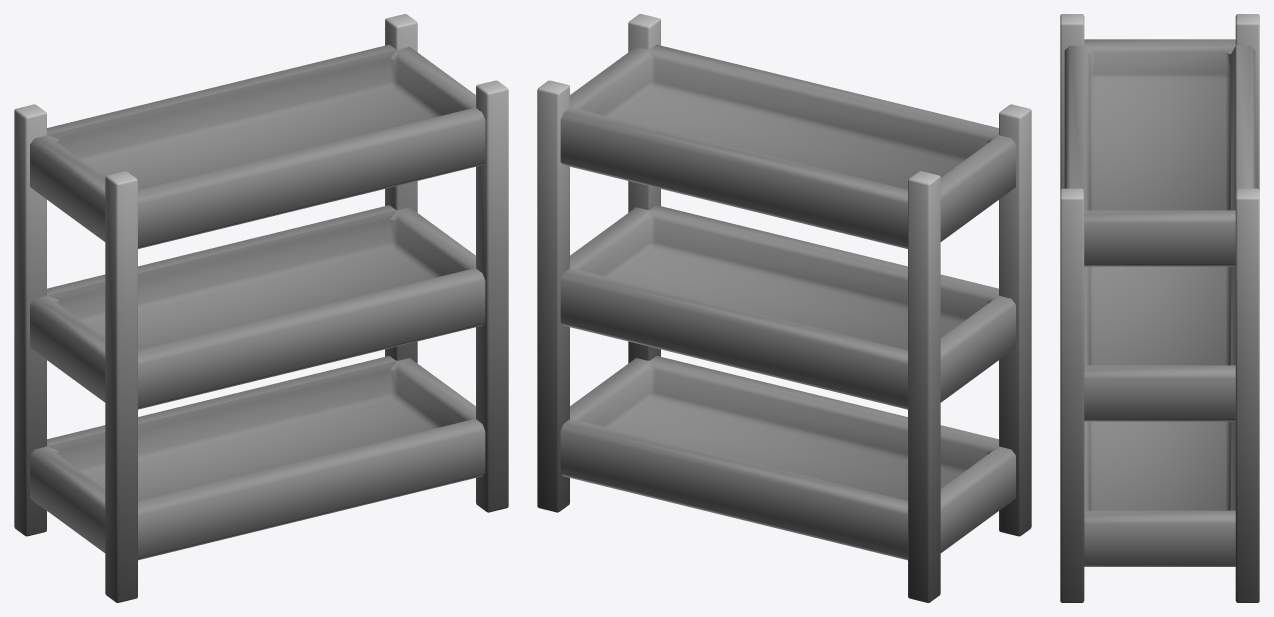
Rendered from Kitchen_Rack_01.fbx.
The picture shows the model from 3 angles, left to right: view 1: azimuth 30°, elevation 25°; view 2: azimuth 150°, elevation 25°; view 3: azimuth 270°, elevation 25°; orthographic projection. The views are drawn at different scales.
Parts seen in each view (by area): view 1: Kitchen_Rack_01; view 2: Kitchen_Rack_01; view 3: Kitchen_Rack_01.
Boxes of the visible parts, x1,y1,x2,y2 form: Kitchen_Rack_01: [14, 14, 508, 602]; Kitchen_Rack_01: [537, 14, 1031, 602]; Kitchen_Rack_01: [1060, 14, 1259, 602].
Bounding box in the file's own units: 159 × 162 × 72.34.
